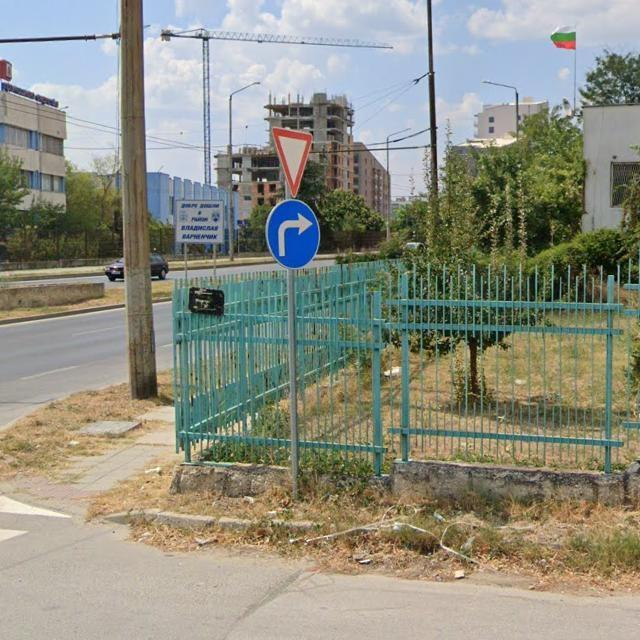prio_give_way: (274, 129, 315, 198)
